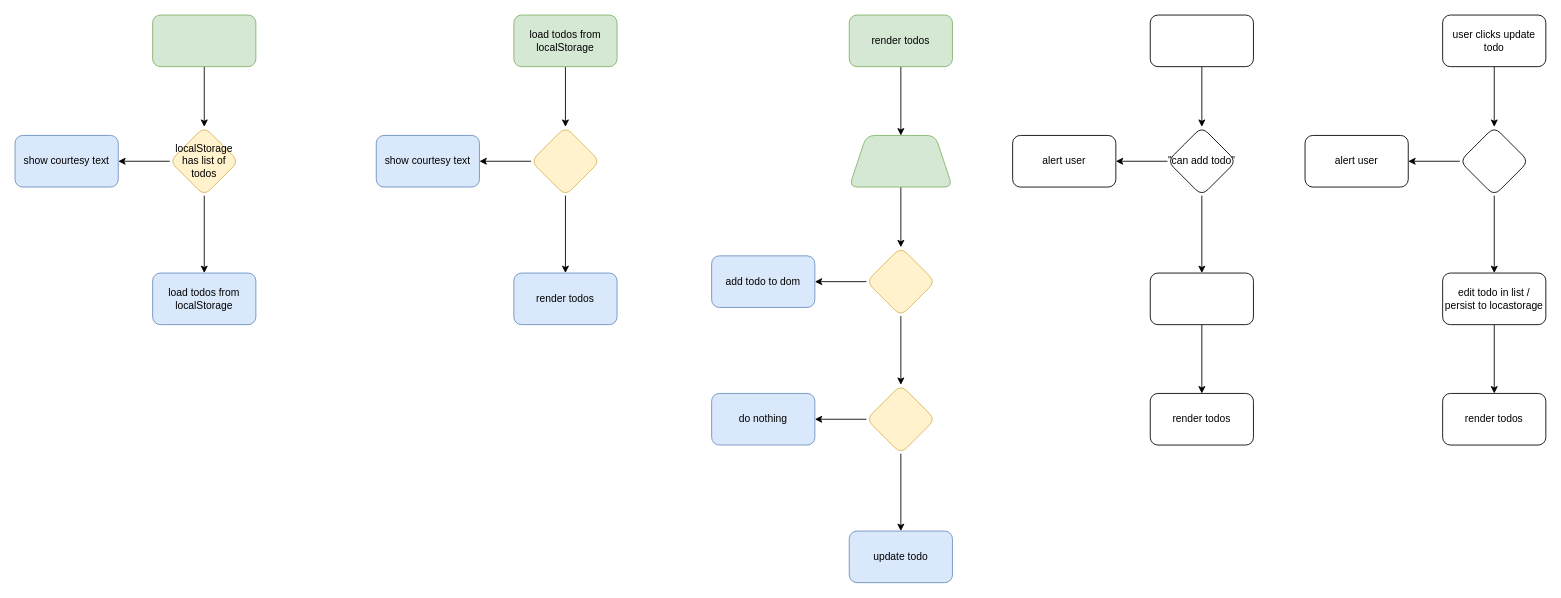
Image size: 1561x598. Some labels were removed from this diagram. The centre of each missing label's shape, as x and y in pixels:
"can update todo": the point at 1494,161
add todo to list / persist to locastorage: the point at 1201,298
for todo in todos list: the point at 900,161
todo from args is different from todo in dom?: the point at 900,419
todo is already in dom?: the point at 900,281
todo list has todos?: the point at 565,161
user clicks add todo: the point at 1201,40
user loads page: the point at 204,40
